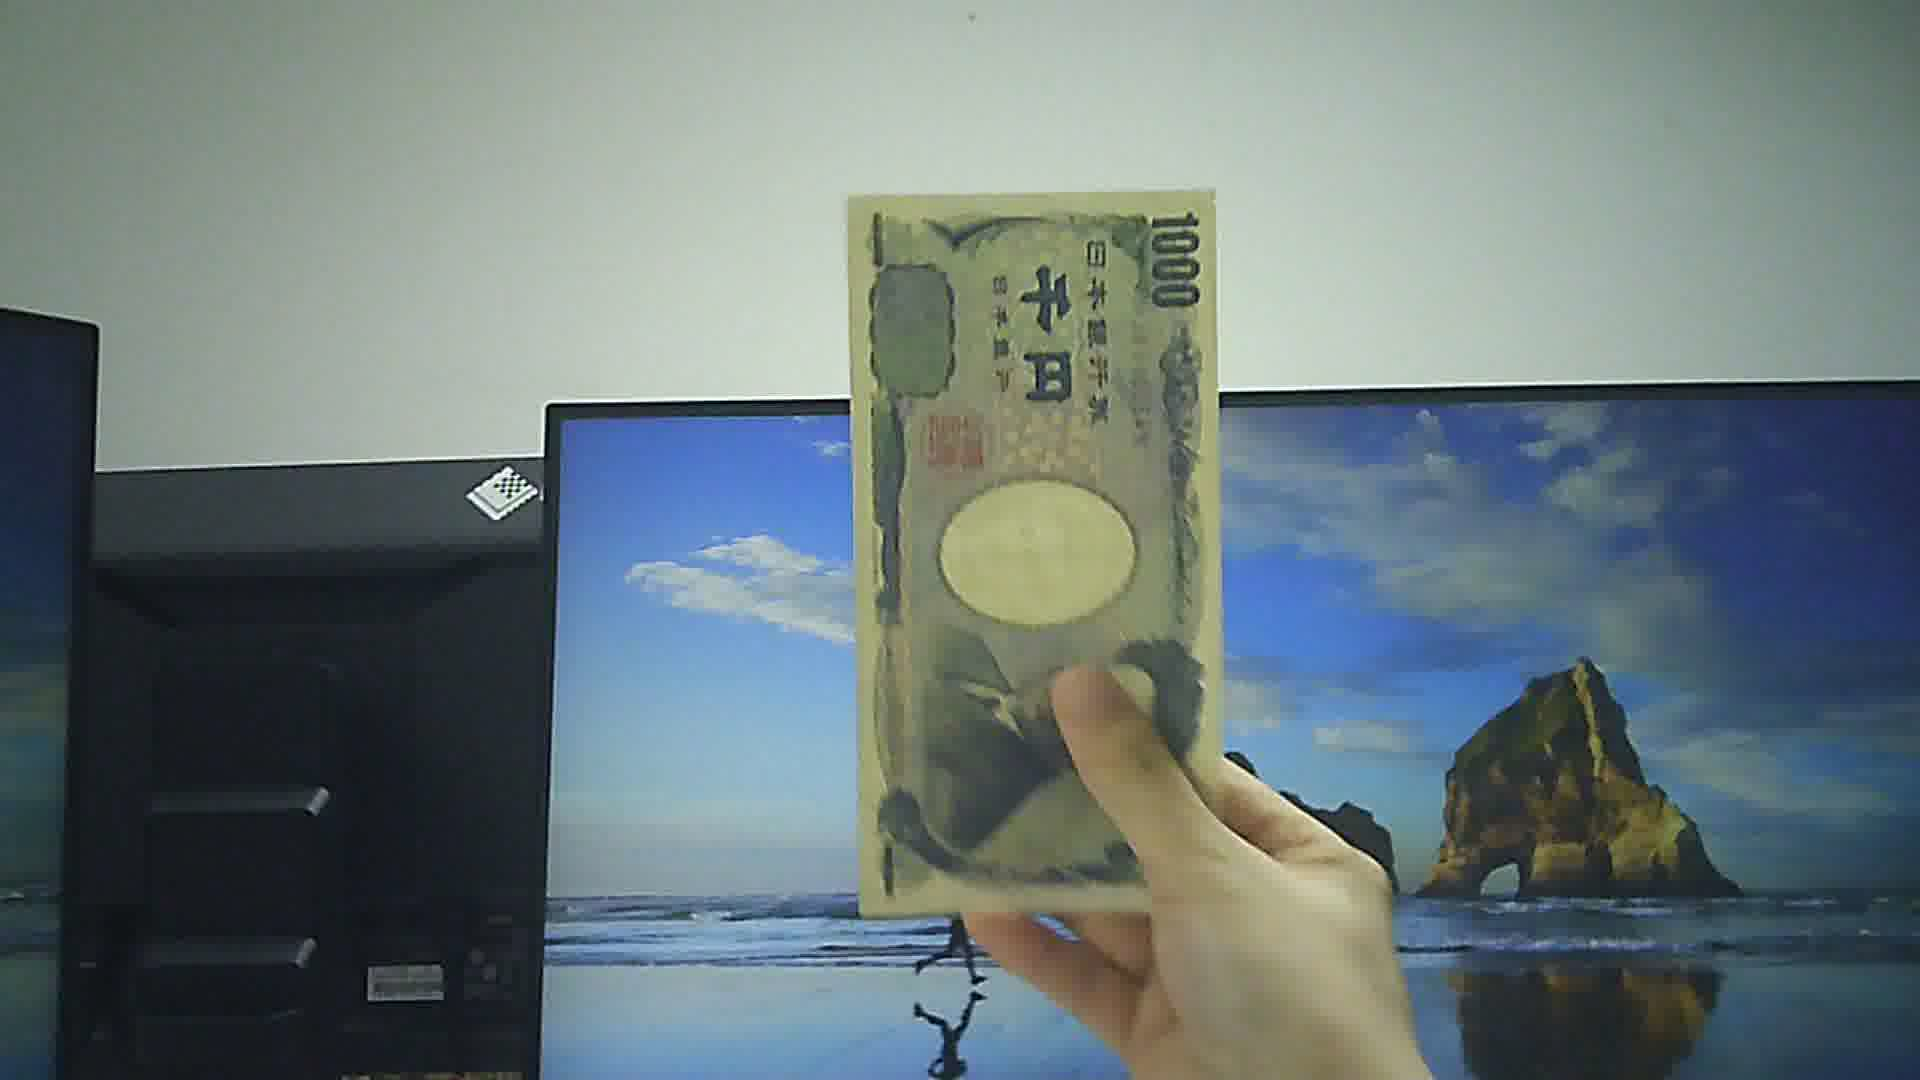1,000 Yen: (837, 175, 1228, 916)
